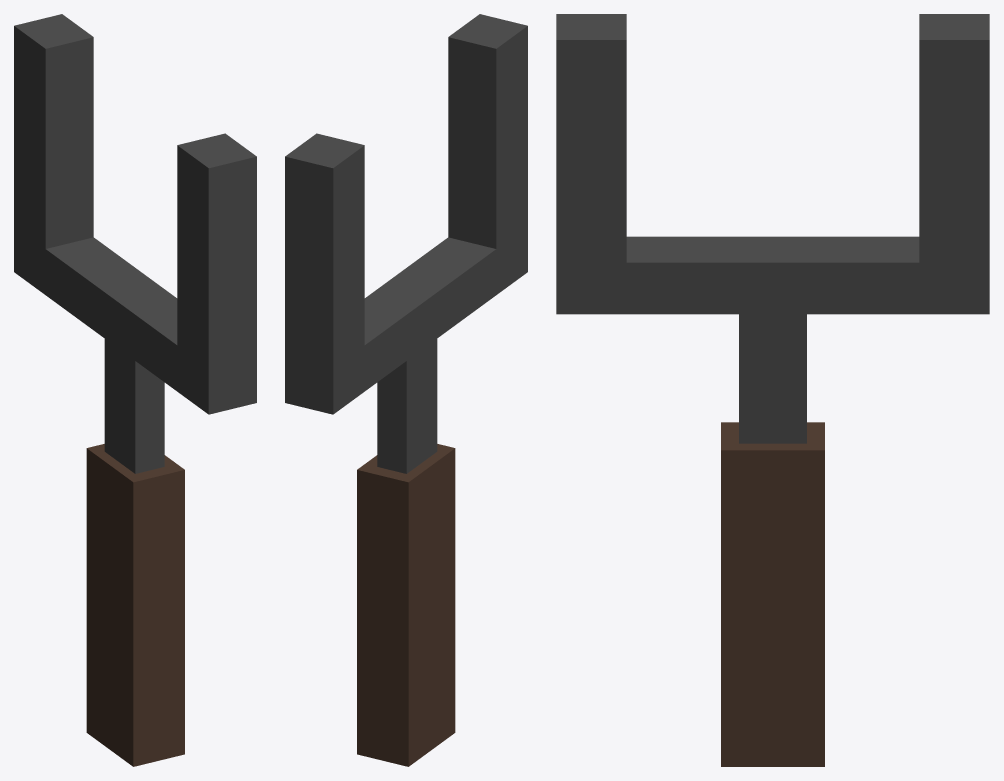
The model's file is S_ElectricalLeve.fbx.
3 views of the same model, side by side, from view 1: azimuth 30°, elevation 25°; view 2: azimuth 150°, elevation 25°; view 3: azimuth 270°, elevation 25° (orthographic). The views are drawn at different scales.
Visible parts, largest first — view 1: S_ElectricalLeve; view 2: S_ElectricalLeve; view 3: S_ElectricalLeve.
Boxes of the visible parts, x1=… form: S_ElectricalLeve: x1=14, y1=14, x2=256, y2=766; S_ElectricalLeve: x1=285, y1=14, x2=527, y2=766; S_ElectricalLeve: x1=556, y1=14, x2=989, y2=766.
Bounding box in the file's own units: 2.34 × 28.24 × 15.28.
